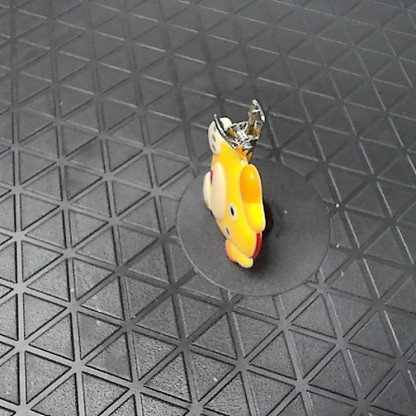dogclip: (201, 95, 271, 272)
